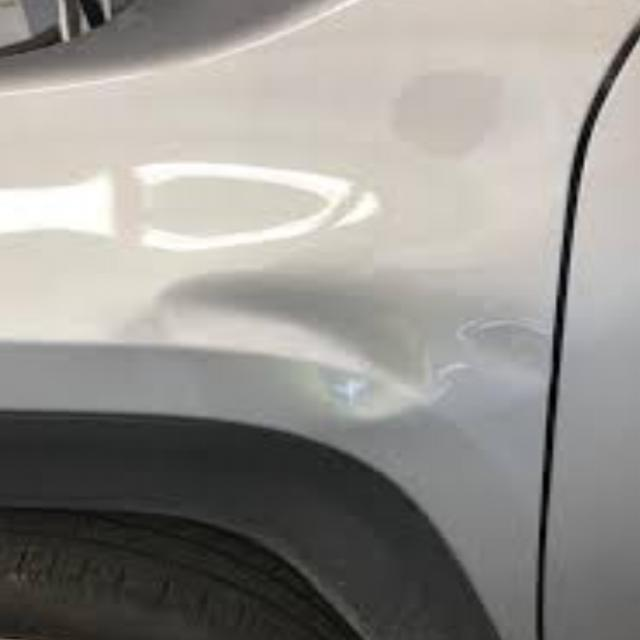dents: (136, 250, 528, 436)
